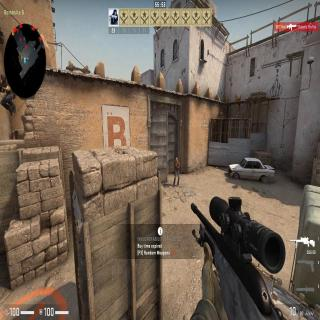T-Body: (173, 156, 180, 186)
T-Head: (175, 156, 178, 162)
